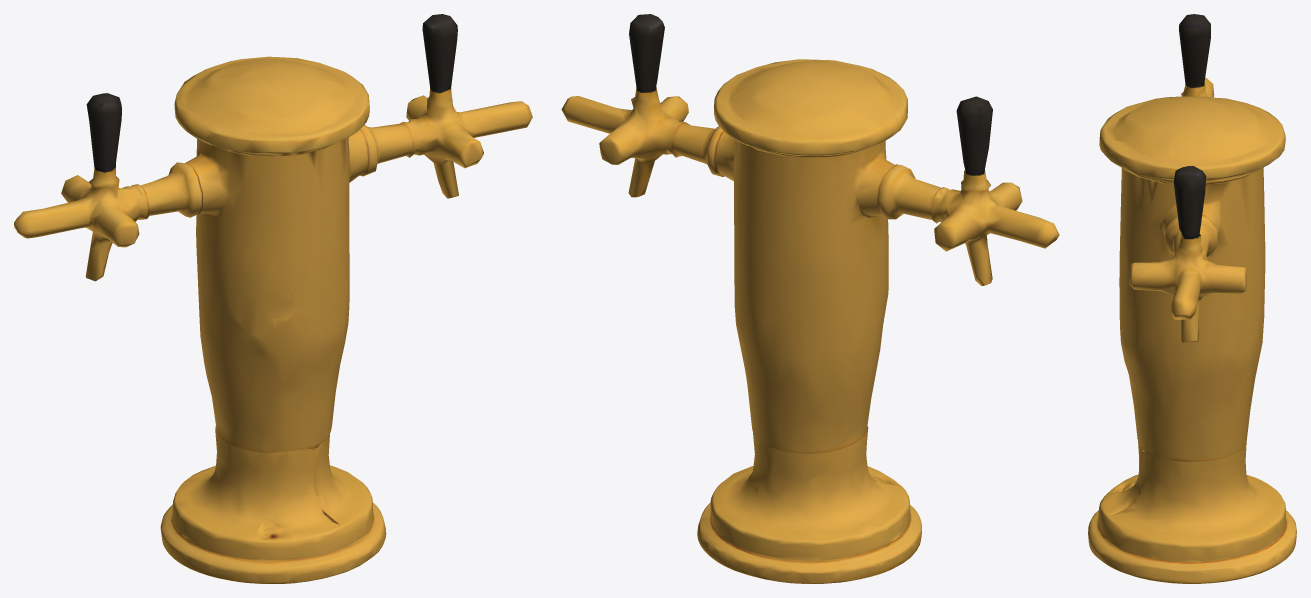
The model's file is zapfhahn.glb.
The picture shows the model from 3 angles, left to right: view 1: azimuth 30°, elevation 25°; view 2: azimuth 150°, elevation 25°; view 3: azimuth 270°, elevation 25°; orthographic projection. The views are drawn at different scales.
Visible parts, largest first — view 1: tripo_node_5dbc986e-3e07-4942-a7c2-29c17c3d3500; view 2: tripo_node_5dbc986e-3e07-4942-a7c2-29c17c3d3500; view 3: tripo_node_5dbc986e-3e07-4942-a7c2-29c17c3d3500.
Boxes of the visible parts, left/top/right/bottom form: tripo_node_5dbc986e-3e07-4942-a7c2-29c17c3d3500: left=14, top=14, right=532, bottom=583; tripo_node_5dbc986e-3e07-4942-a7c2-29c17c3d3500: left=561, top=14, right=1059, bottom=583; tripo_node_5dbc986e-3e07-4942-a7c2-29c17c3d3500: left=1088, top=14, right=1296, bottom=583.
Size of the model in its own units: 0.9775 by 0.8937 by 0.3759.
Materials: 1 (1 with a texture image).
